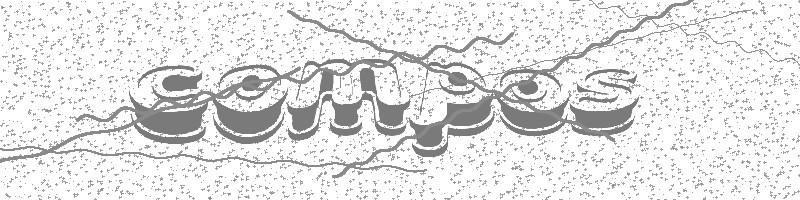c: (128, 64, 208, 145)
m: (286, 57, 410, 142)
o: (211, 64, 288, 145), (498, 68, 569, 137)
p: (409, 60, 496, 158)
s: (569, 68, 640, 137)
